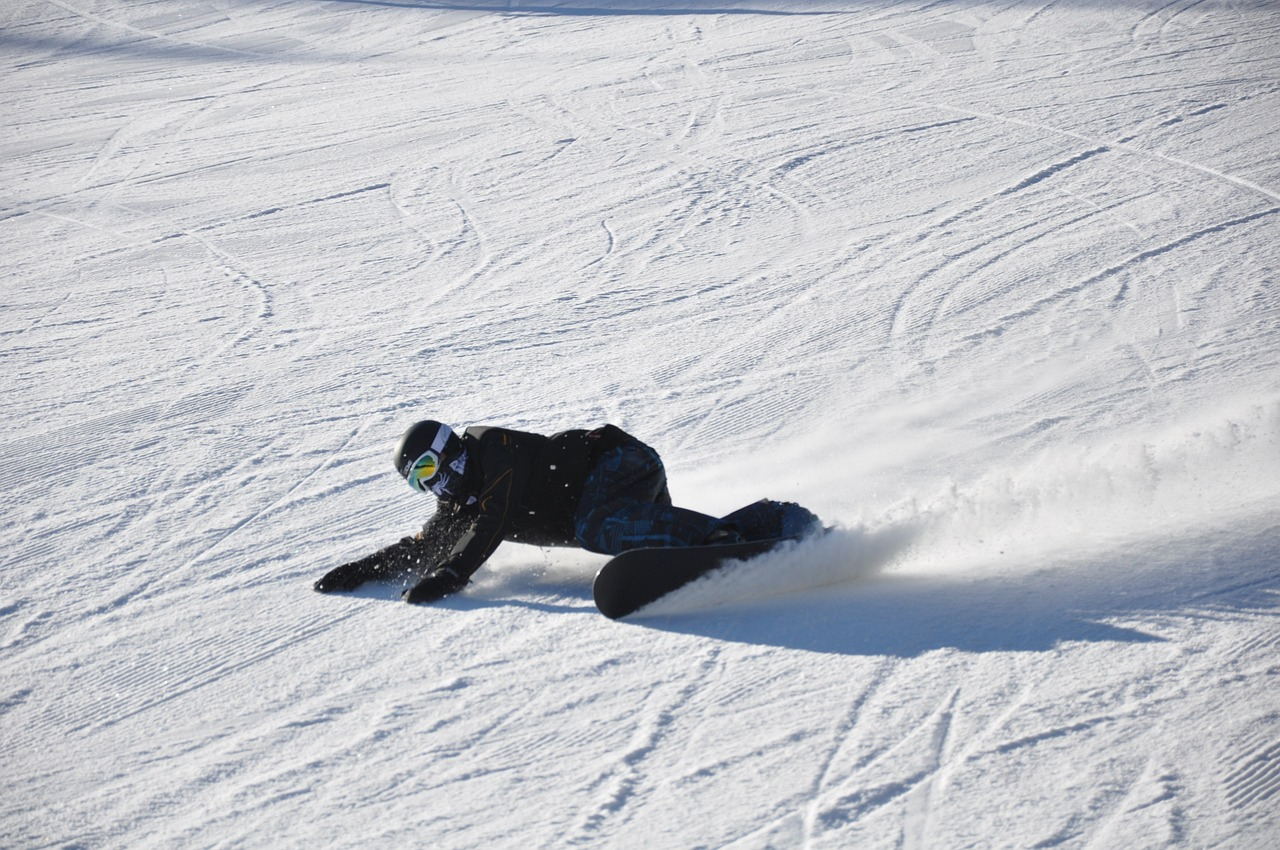snowboarder: (294, 386, 870, 635)
